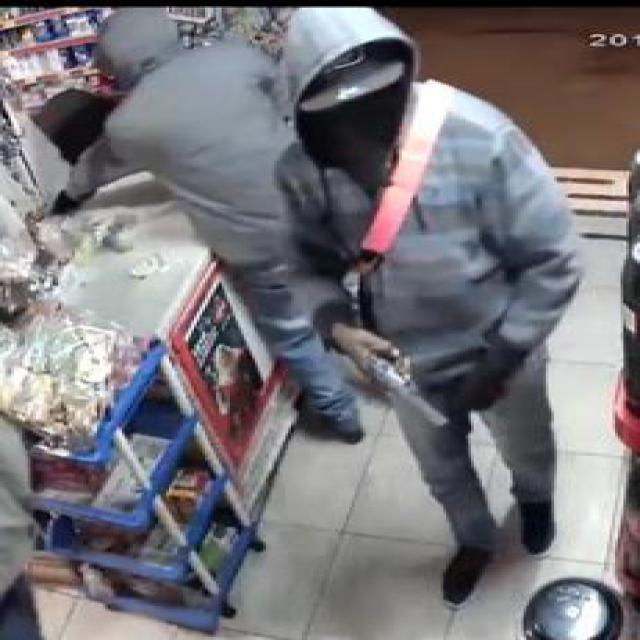gun: (344, 332, 454, 430)
